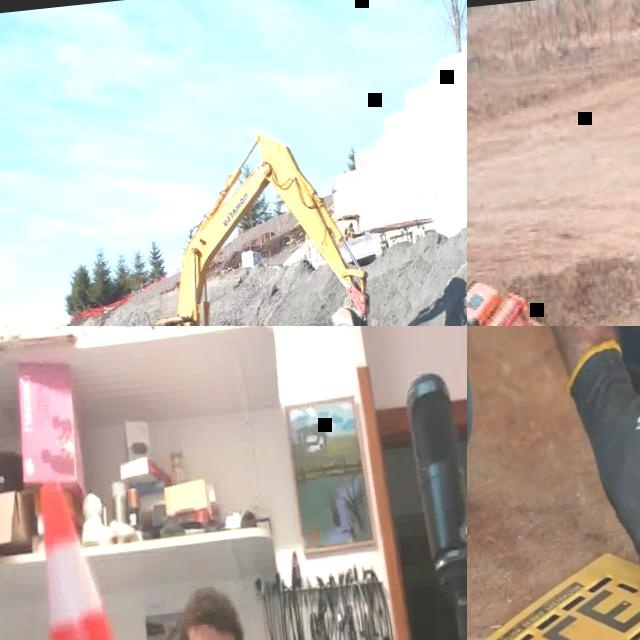NO-Hardhat: (177, 586, 240, 640)
Person: (467, 326, 640, 640), (15, 580, 304, 640), (342, 221, 354, 238)
Safety Cone: (9, 471, 141, 640)
Safety Vest: (345, 227, 353, 235)
machinery: (79, 121, 377, 326), (467, 254, 640, 326)
